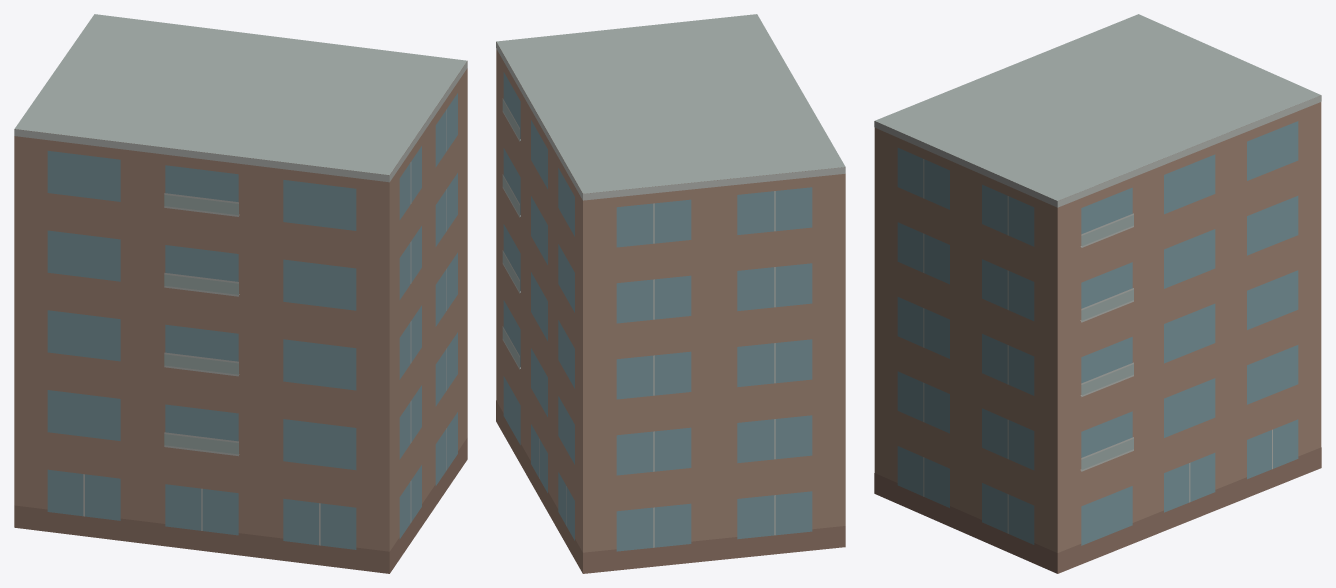
Rendered from survey-upis-32886743.glb.
The picture shows the model from 3 angles, left to right: view 1: azimuth 30°, elevation 25°; view 2: azimuth 150°, elevation 25°; view 3: azimuth 270°, elevation 25°; orthographic projection. The views are drawn at different scales.
Visible parts, largest first — view 1: survey-upis-32886743.tmp; view 2: survey-upis-32886743.tmp; view 3: survey-upis-32886743.tmp.
Boxes of the visible parts, x1,y1,x2,y2 form: survey-upis-32886743.tmp: (14,14,467,573); survey-upis-32886743.tmp: (496,14,845,573); survey-upis-32886743.tmp: (874,14,1321,573).
Bounding box in the file's own units: 14.75 × 13.7 × 14.89.
